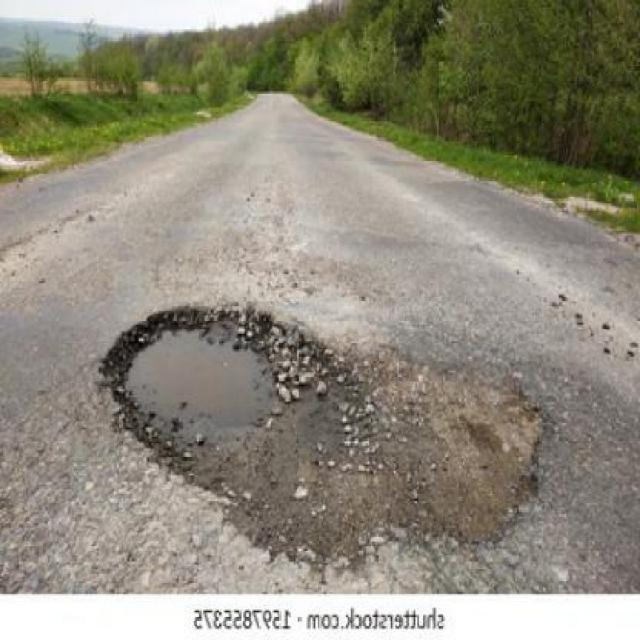pothole: (94, 298, 303, 451)
